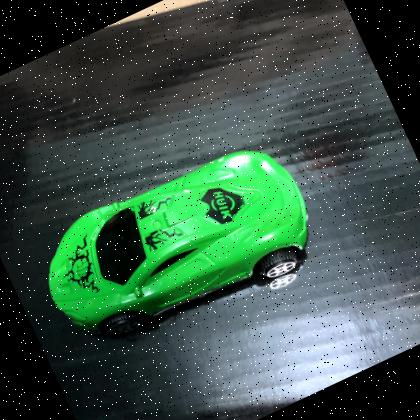Car: (48, 150, 309, 340)
